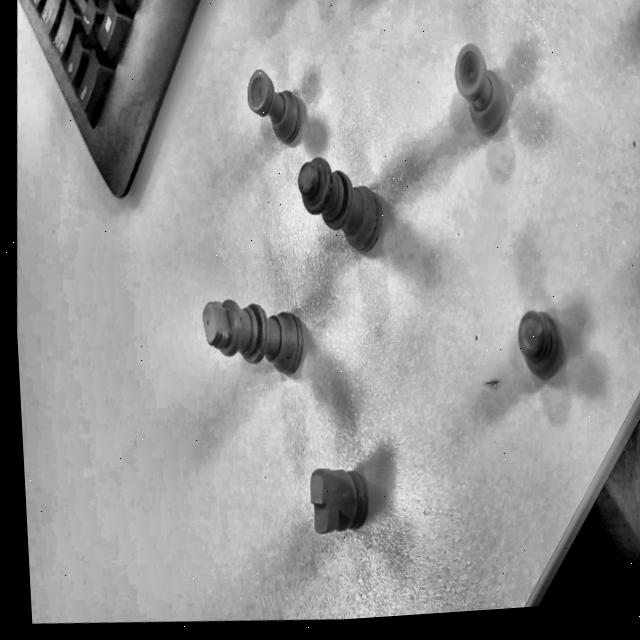white-king: (202, 300, 303, 376)
white-knight: (310, 470, 369, 534)
white-pawn: (517, 310, 564, 383)
white-queen: (298, 158, 381, 253)
white-rook: (454, 45, 506, 137), (247, 71, 303, 144)
